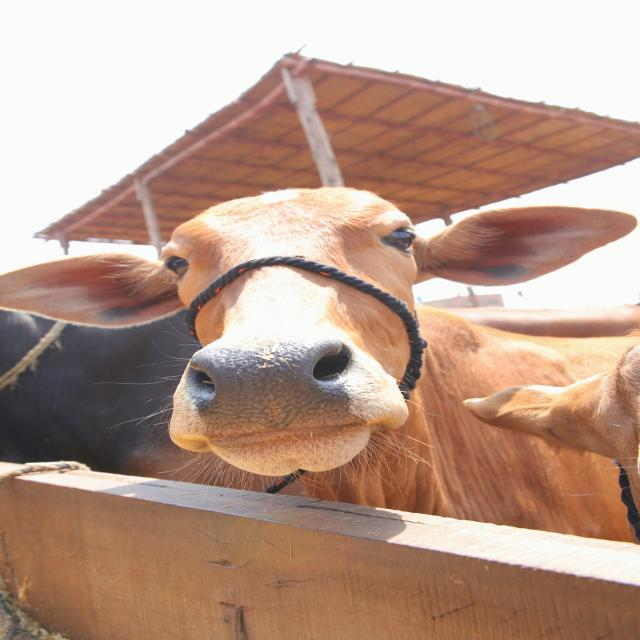muzzles: (172, 339, 372, 435)
